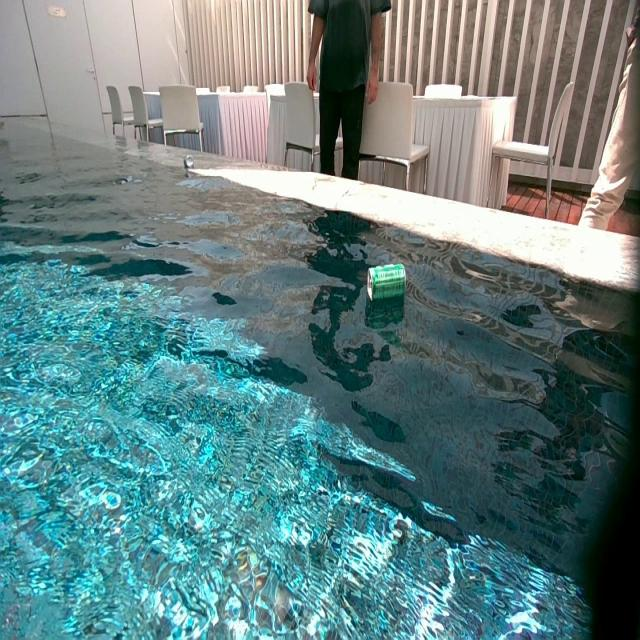Cans: (368, 263, 406, 305), (184, 155, 193, 169)
